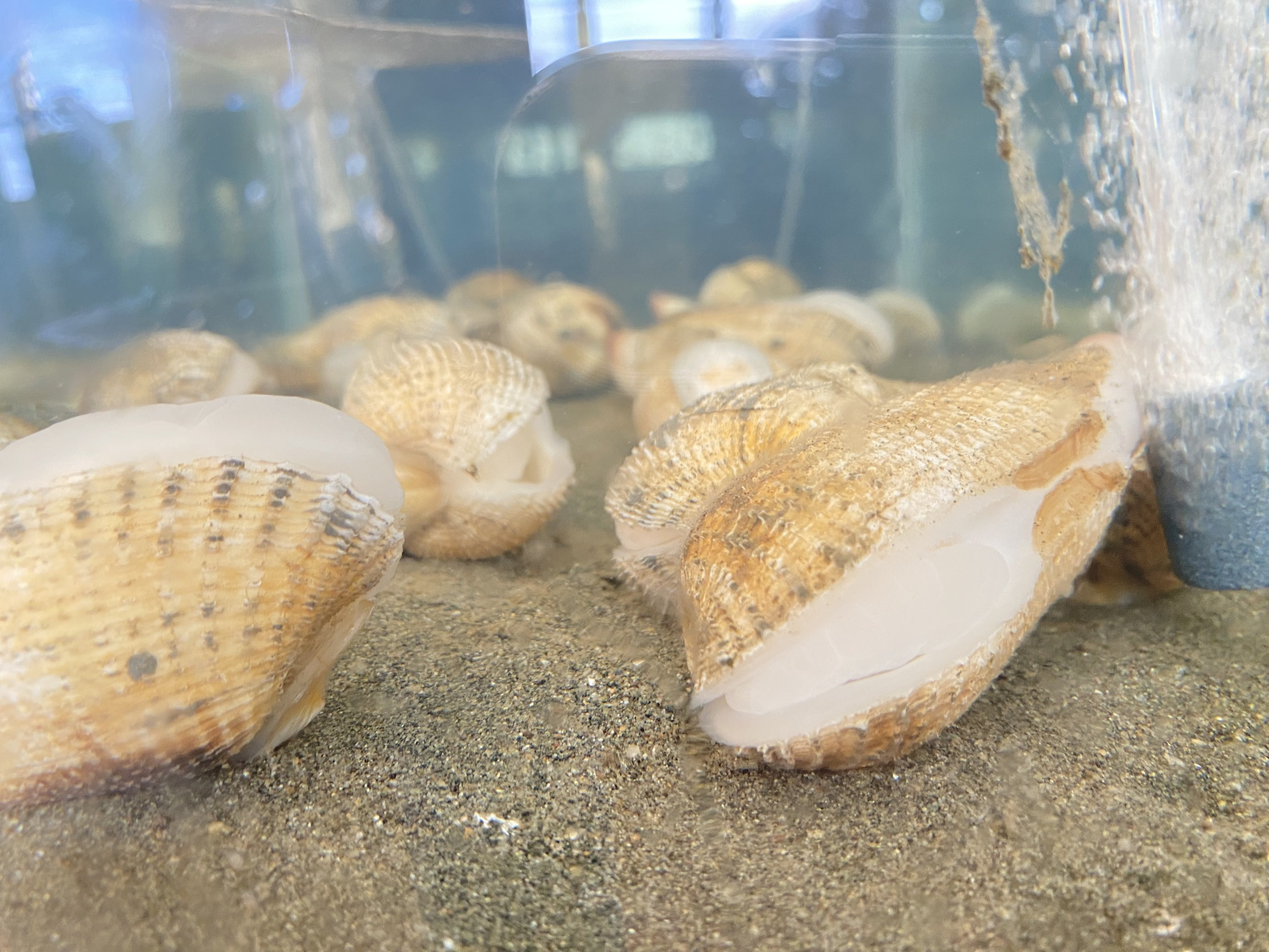Healthy: (672, 335, 1141, 769)
